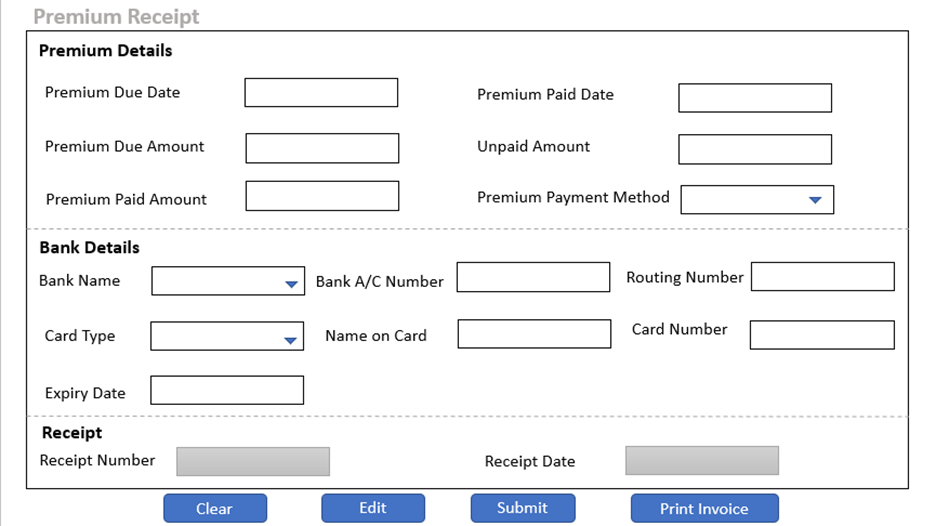button: (624, 490, 787, 526), (156, 488, 277, 526), (317, 489, 435, 526), (466, 490, 583, 526)
